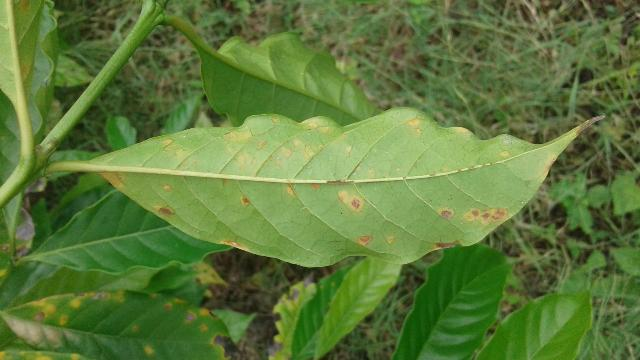rust_level_2: (87, 108, 605, 266)
